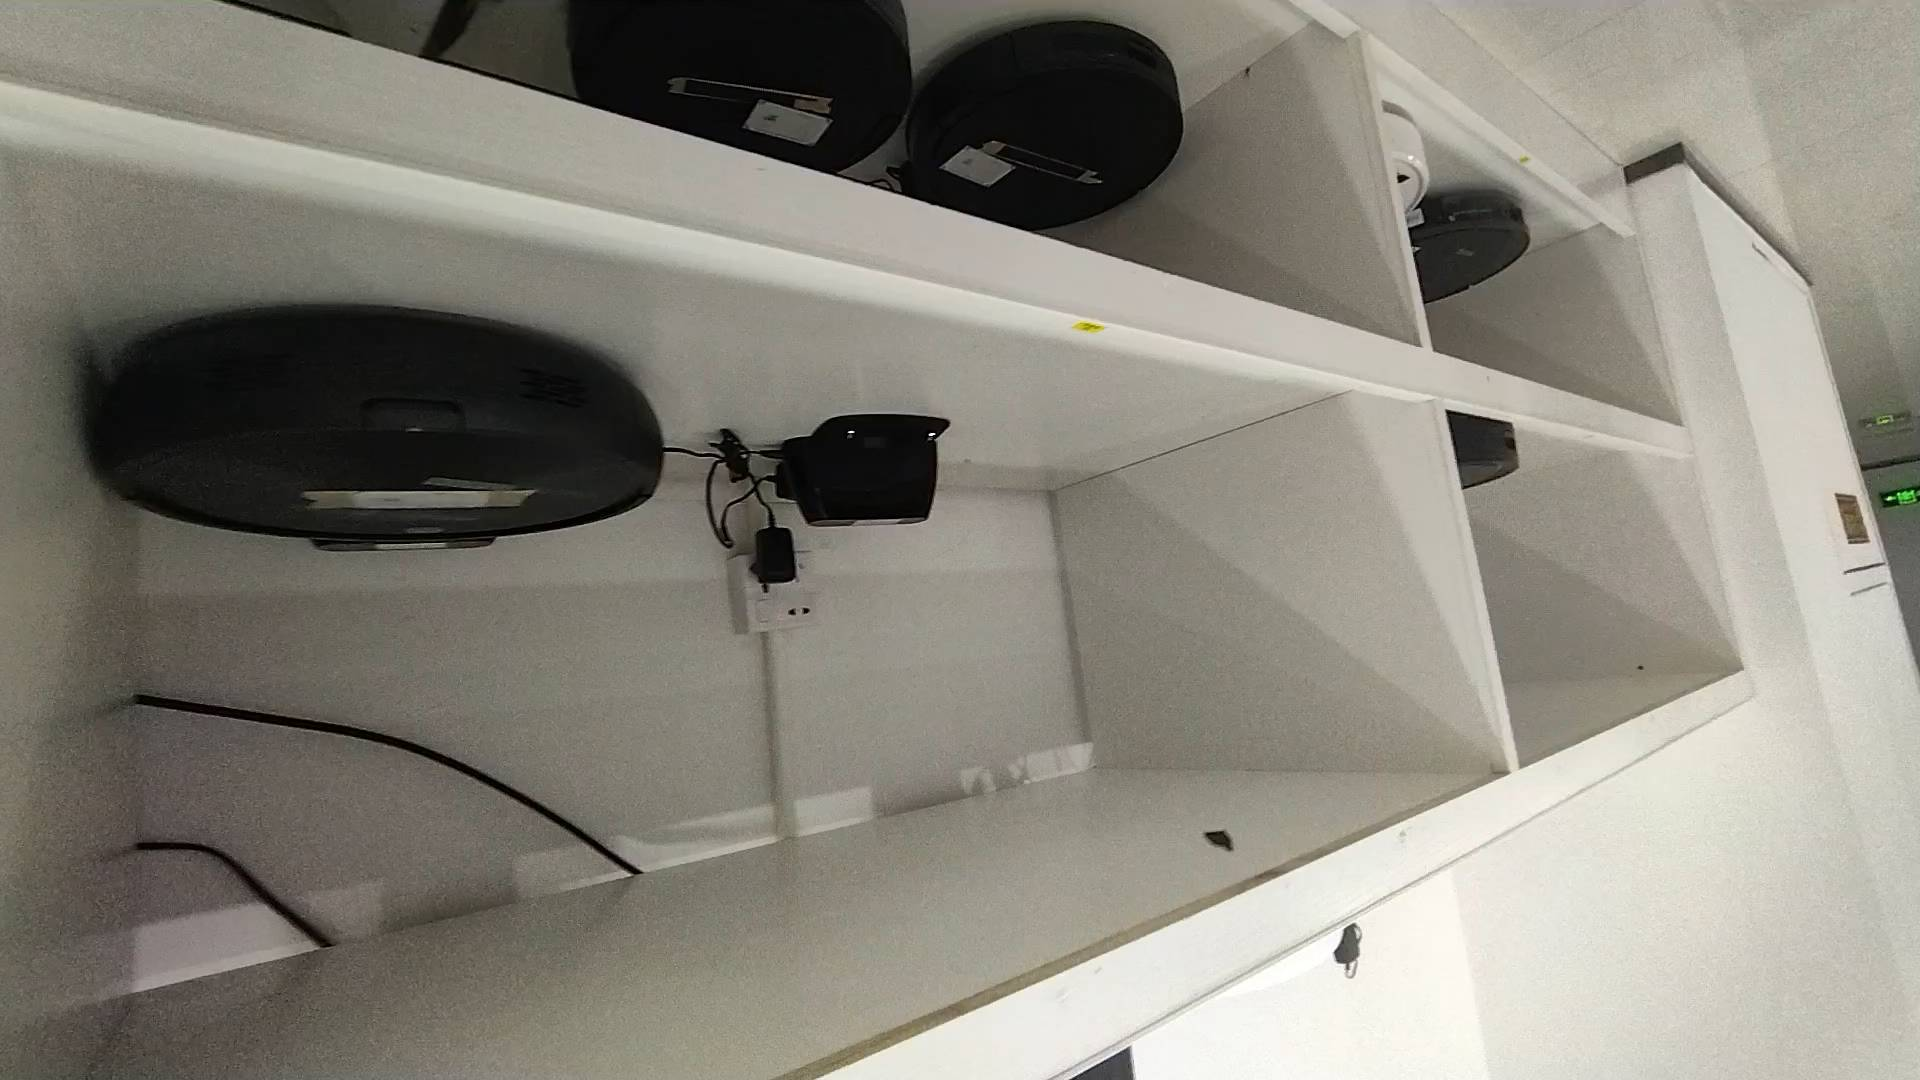recharge seat: (778, 411, 960, 525)
